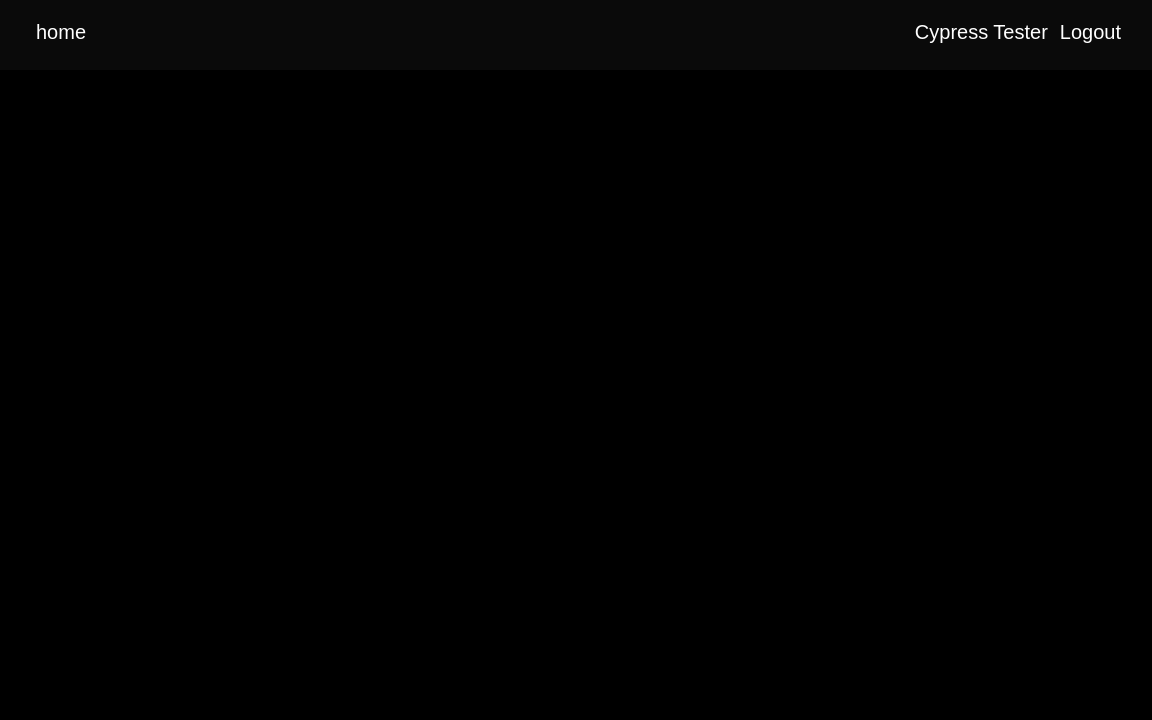
Search Artist › should display content page correctly
Click the link "Cypress Tester". click: (982, 32)
box: [915,21,1048,43]
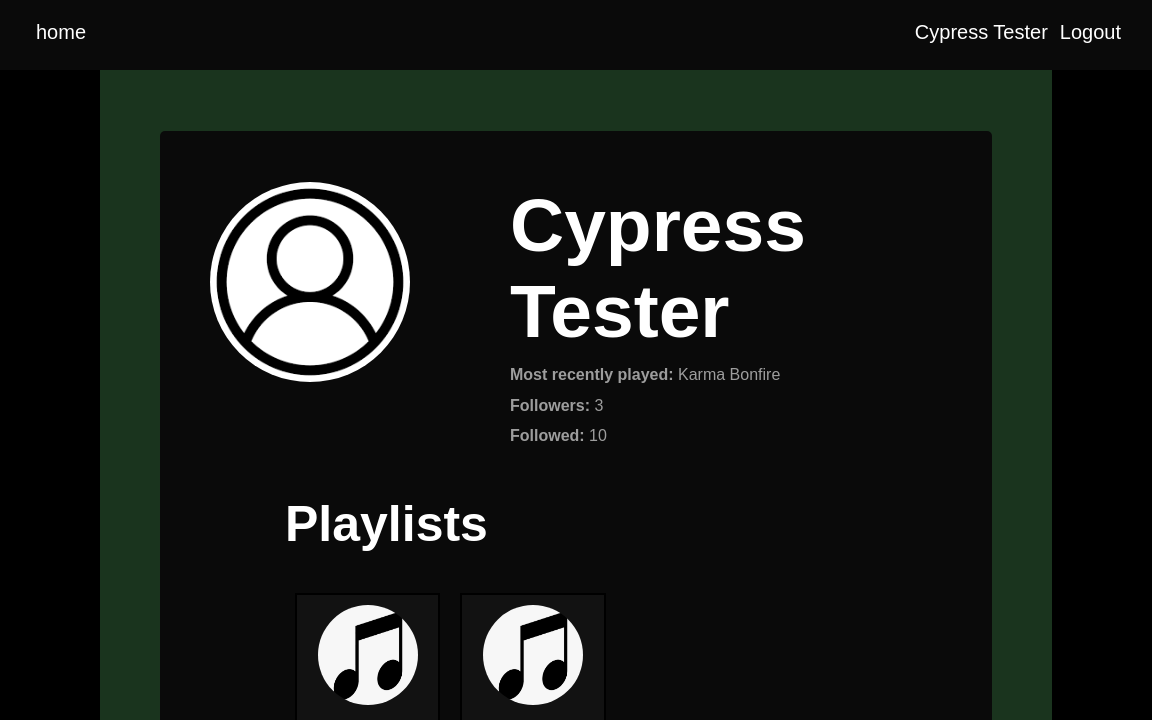
Expected: the text "Most recently played: Karma Bonfire" is shown, [510,366,780,384]
Expected: the text "Followers: 3" is shown, [510,397,603,414]
Expected: the text "Followed: 10" is shown, [510,427,607,444]
